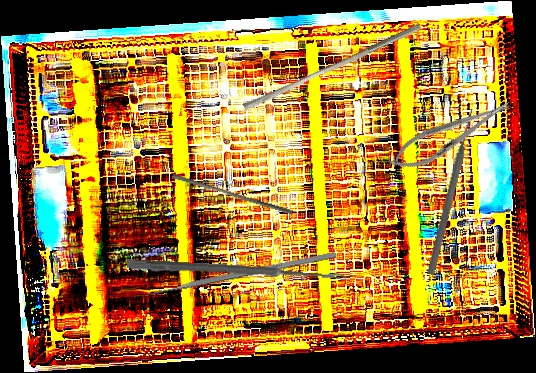Needle Holder: (383, 90, 518, 180)
Pusher: (242, 15, 422, 118), (135, 250, 337, 301), (425, 107, 478, 276), (170, 172, 295, 216)
Surgical Spoon: (126, 259, 347, 282)
